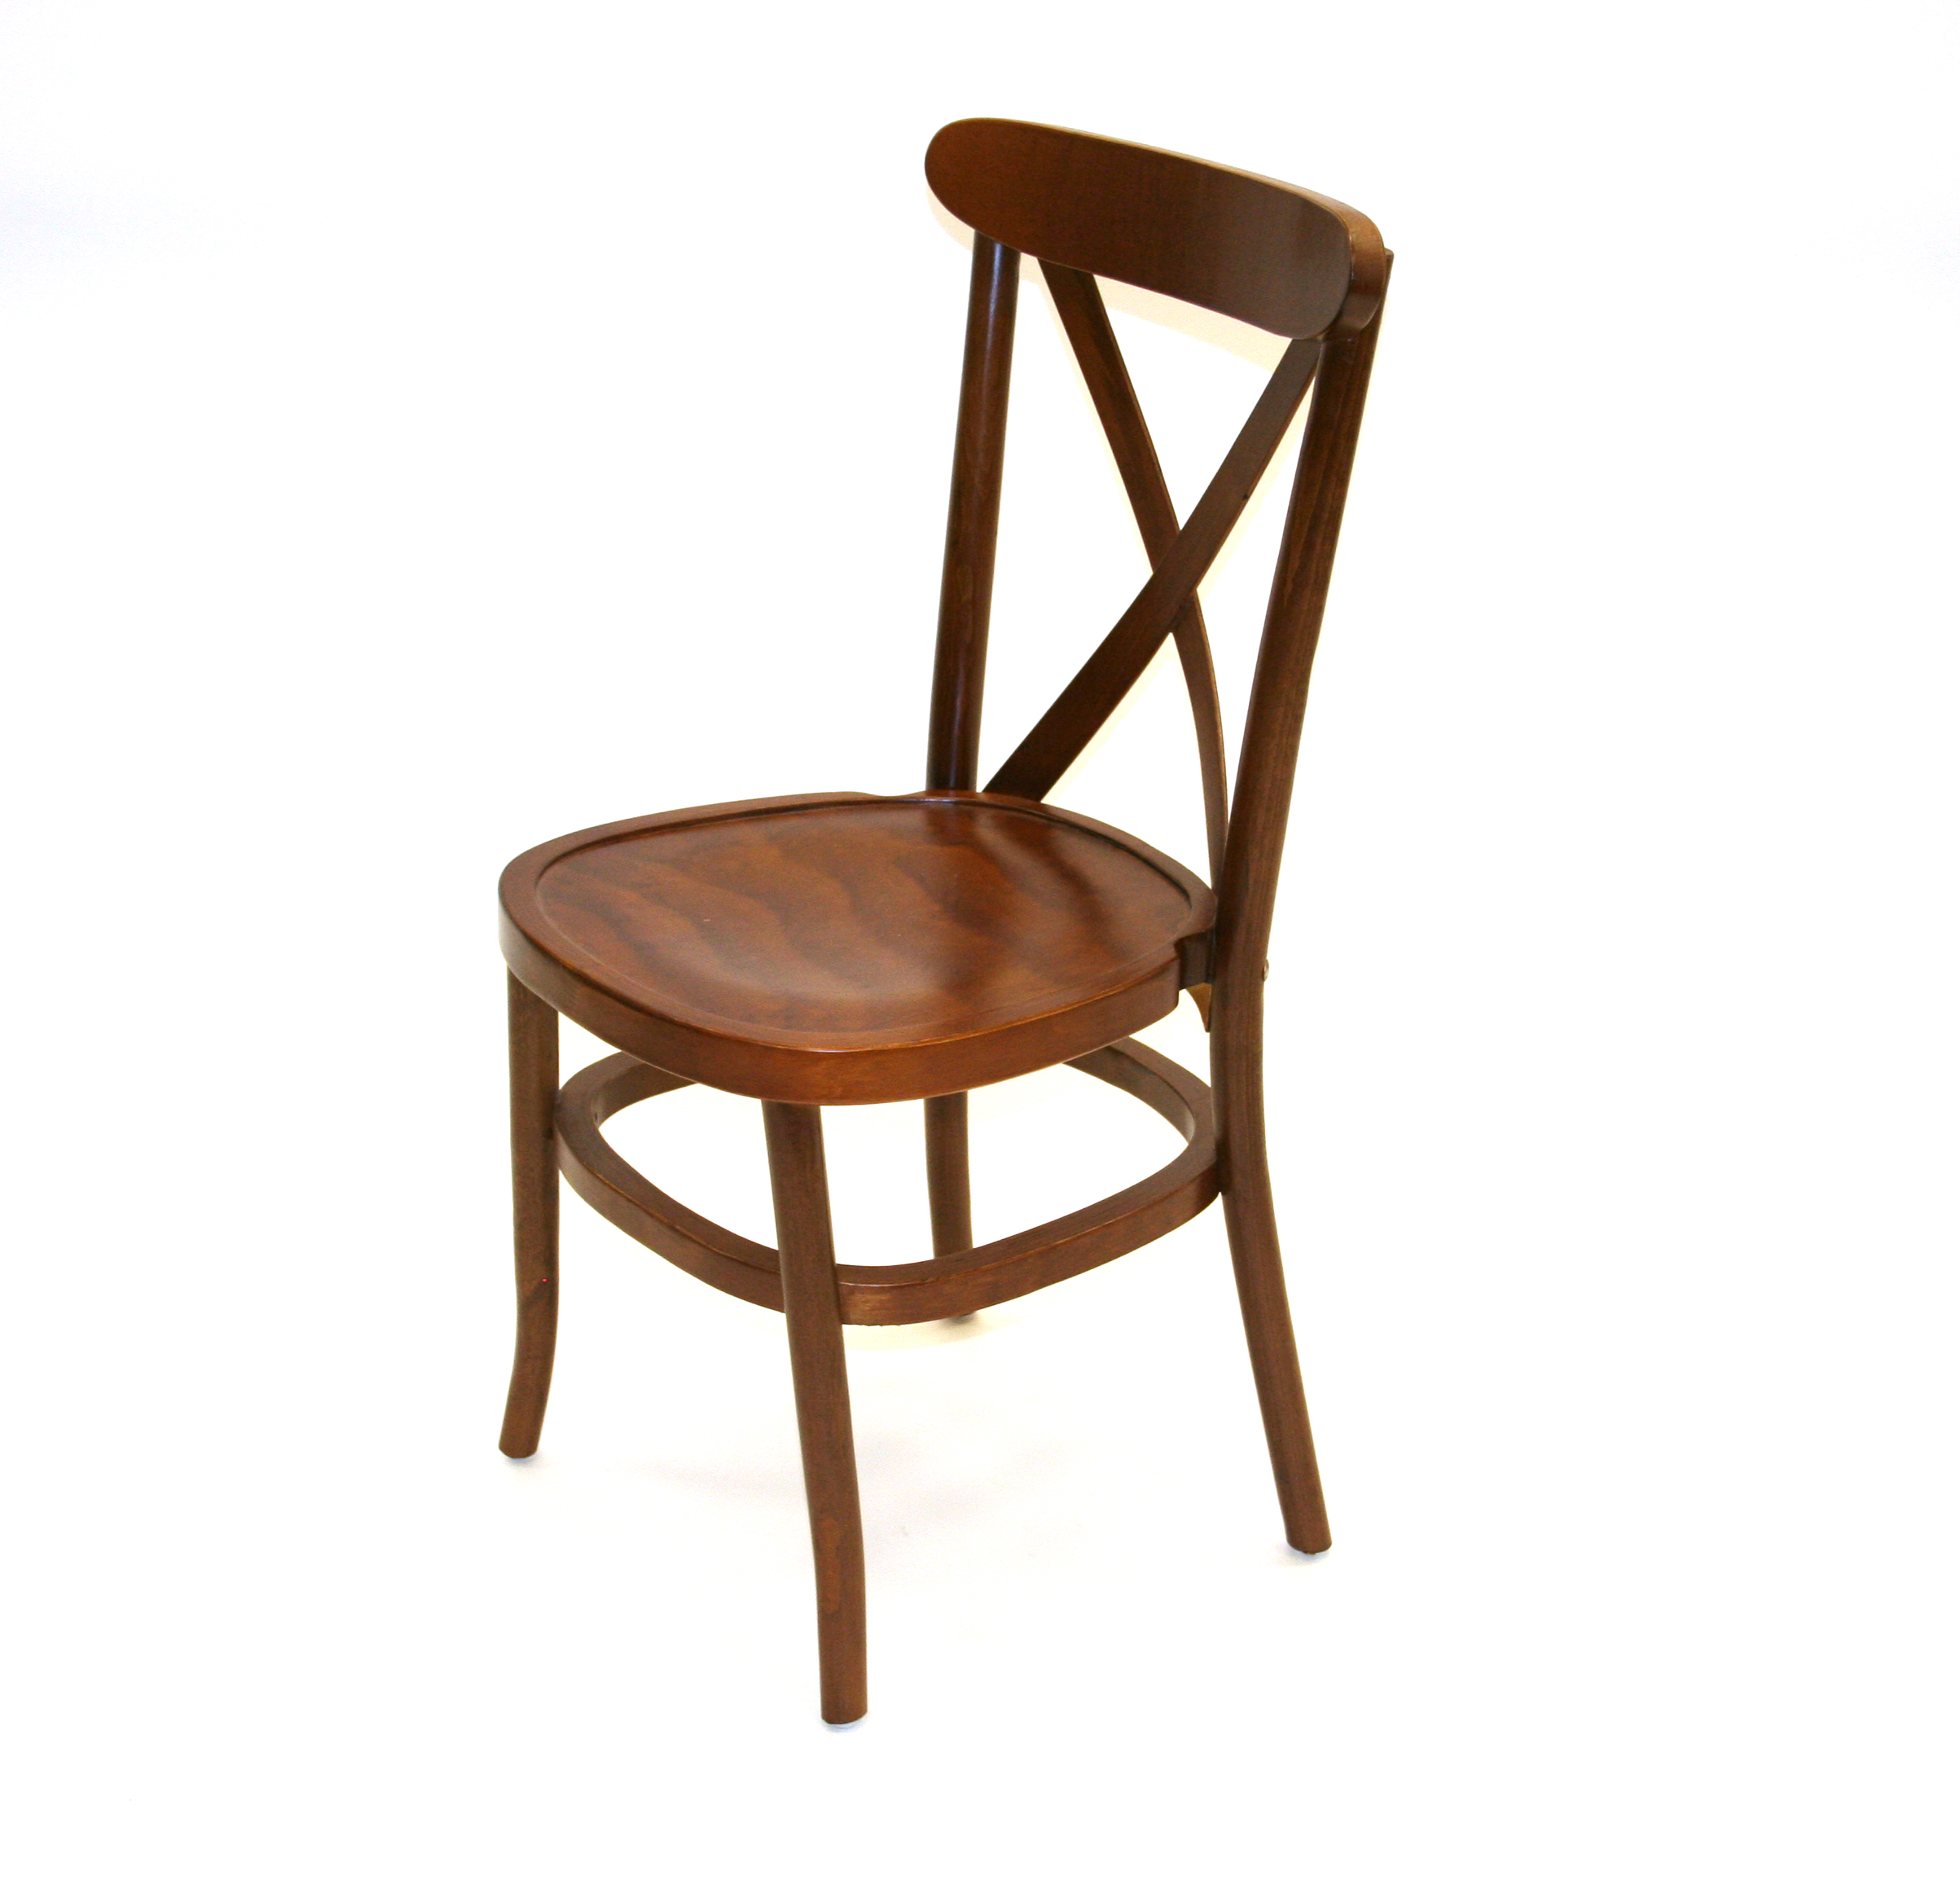chairs: (448, 100, 1400, 1735)
